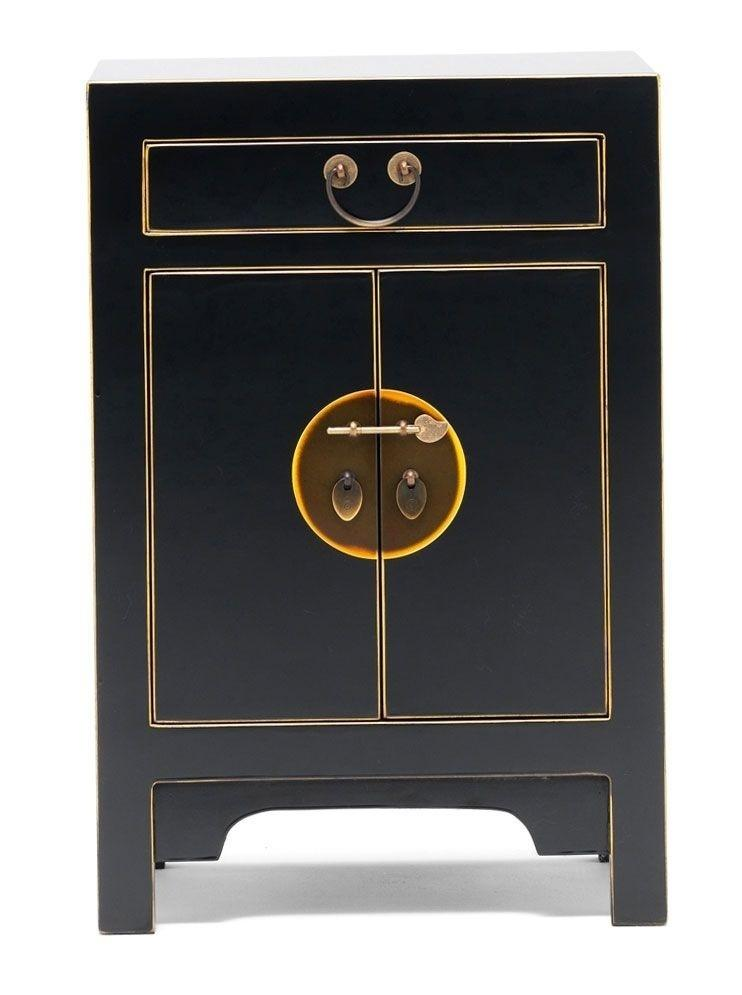cabinet_door: (387, 262, 612, 719), (158, 268, 380, 720), (144, 134, 607, 244)
handle: (317, 145, 432, 232), (329, 463, 367, 535), (395, 463, 426, 532)
